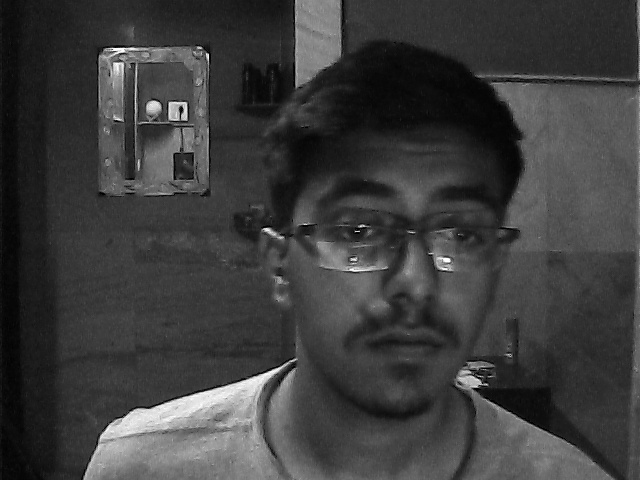nomask: (285, 121, 497, 417)
